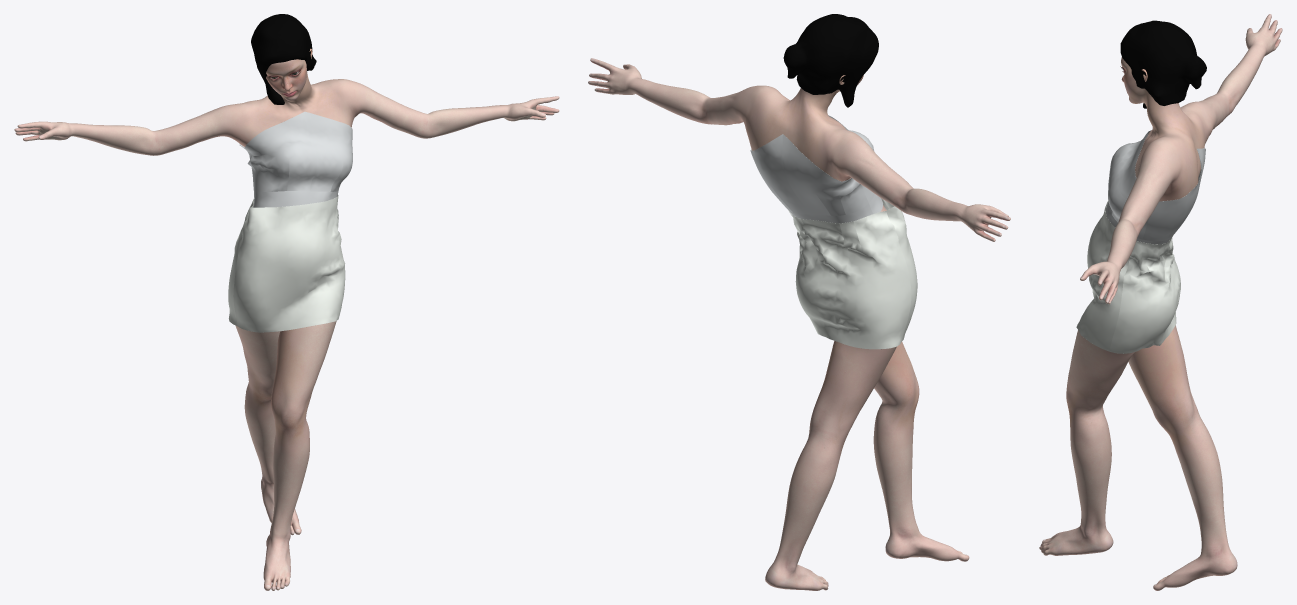
File: Dramatic.obj
The picture shows the model from 3 angles, left to right: view 1: azimuth 30°, elevation 25°; view 2: azimuth 150°, elevation 25°; view 3: azimuth 270°, elevation 25°; orthographic projection. The views are drawn at different scales.
Size of the model in its own units: 1601 by 1717 by 679.
